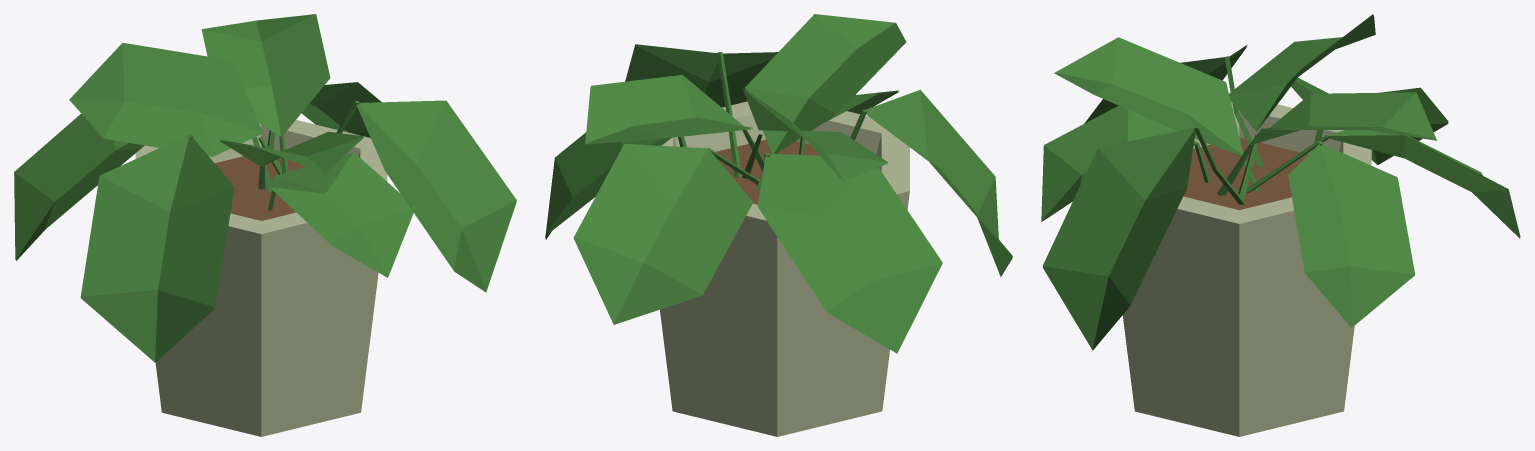
File: Flower_7.fbx
The picture shows the model from 3 angles, left to right: view 1: azimuth 30°, elevation 25°; view 2: azimuth 150°, elevation 25°; view 3: azimuth 270°, elevation 25°; orthographic projection. The views are drawn at different scales.
Visible parts, largest first — view 1: Flower_7; view 2: Flower_7; view 3: Flower_7.
Boxes of the visible parts, bbox=[...] form: Flower_7: bbox=[14, 14, 516, 436]; Flower_7: bbox=[545, 14, 1012, 436]; Flower_7: bbox=[1041, 14, 1520, 436].
Size of the model in its own units: 60.54 by 59 by 45.27.
